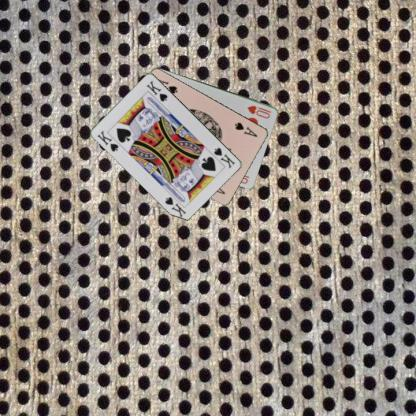10h: (245, 102, 272, 119)
As: (232, 120, 259, 138)
Ks: (95, 128, 120, 153), (212, 144, 236, 170)
